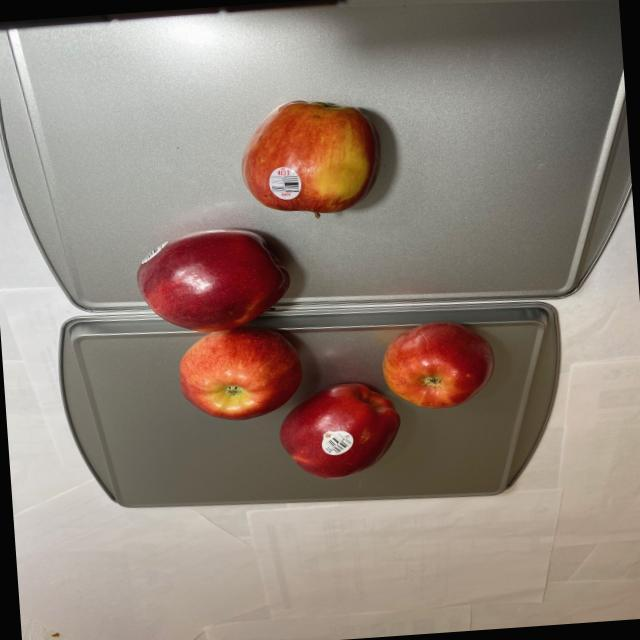apple: (128, 212, 502, 492), (237, 90, 393, 224)
